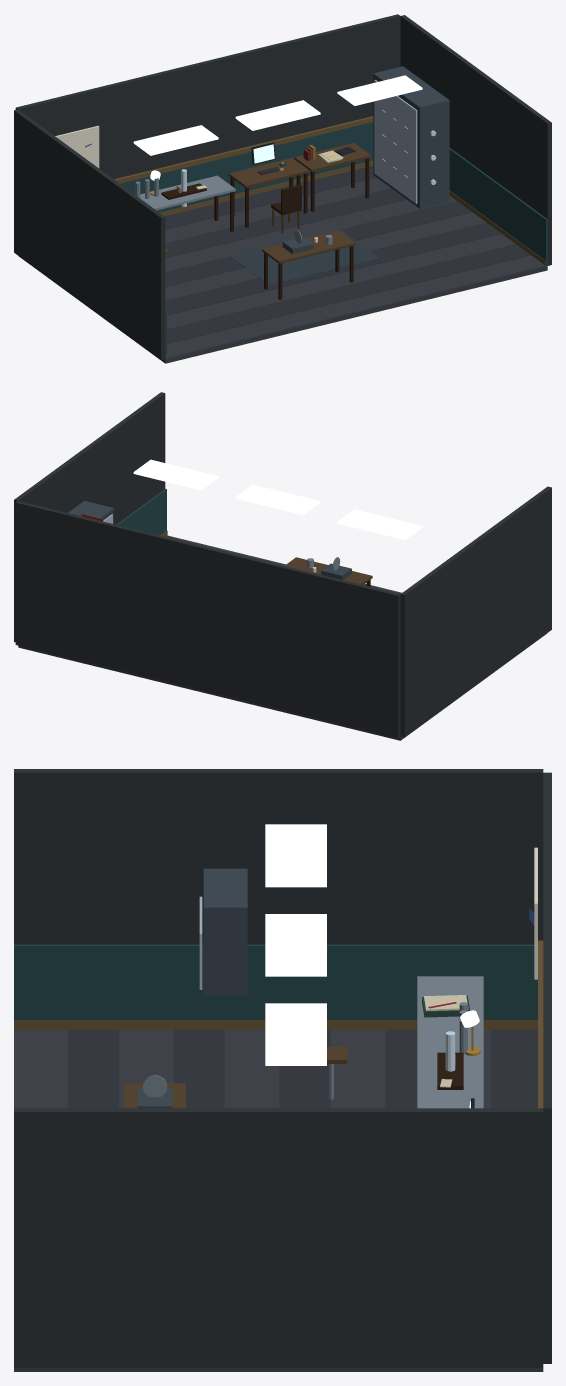
Rendered from lab.glb.
3 views of the same model, one above another, from view 1: azimuth 30°, elevation 25°; view 2: azimuth 150°, elevation 25°; view 3: azimuth 270°, elevation 25° (orthographic). The views are drawn at different scales.
Parts seen in each view (by area): view 1: WallBack, WallLeft, WallRight, Plank0, Plank1, Plank2, ColdFrame, BandBack, BandRight, ColdGlass, Plank3, Plank6 (+19 smaller); view 2: WallBack, WallLeft, WallRight, CeilPanel1, CeilPanel0, CeilPanel2, BandRight, Floor, SawBenchTop, ColdFrame; view 3: WallRight, WallLeft, BandLeft, CoreBenchTop, FumeHood, WallBack, Plank1, Plank0, SkirtLeft, Floor, CeilPanel0, CeilPanel1 (+11 smaller).
Boxes of the visible parts, x1,y1,x2,y2 form: WallBack: (15, 14, 400, 179); WallLeft: (14, 109, 165, 360); WallRight: (400, 15, 551, 265); Plank0: (167, 255, 544, 358); Plank1: (167, 244, 530, 343); Plank2: (167, 233, 515, 329); ColdFrame: (373, 66, 449, 208); BandBack: (120, 122, 373, 212); BandRight: (449, 148, 547, 266); ColdGlass: (374, 80, 417, 203); Plank3: (165, 223, 501, 315); Plank6: (165, 196, 456, 272); WallBack: (15, 501, 400, 737); WallLeft: (400, 486, 551, 737); WallRight: (14, 392, 165, 642); CeilPanel1: (235, 484, 320, 515); CeilPanel0: (337, 509, 422, 540); CeilPanel2: (133, 459, 218, 490); BandRight: (116, 489, 166, 535); Floor: (18, 633, 547, 740); SawBenchTop: (284, 557, 372, 584); ColdFrame: (68, 501, 113, 523); WallRight: (14, 1108, 543, 1367); WallLeft: (14, 769, 543, 944); BandLeft: (14, 944, 537, 1020); CoreBenchTop: (417, 976, 483, 1108); FumeHood: (203, 868, 247, 995); WallBack: (543, 772, 551, 1363); Plank1: (67, 1029, 118, 1108); Plank0: (15, 1029, 65, 1108); SkirtLeft: (14, 1020, 537, 1030); Floor: (14, 1030, 543, 1371); CeilPanel0: (265, 824, 326, 887); CeilPanel1: (265, 914, 326, 976).
Bounding box in the file's own units: 9.2 × 3.3 × 6.1.
